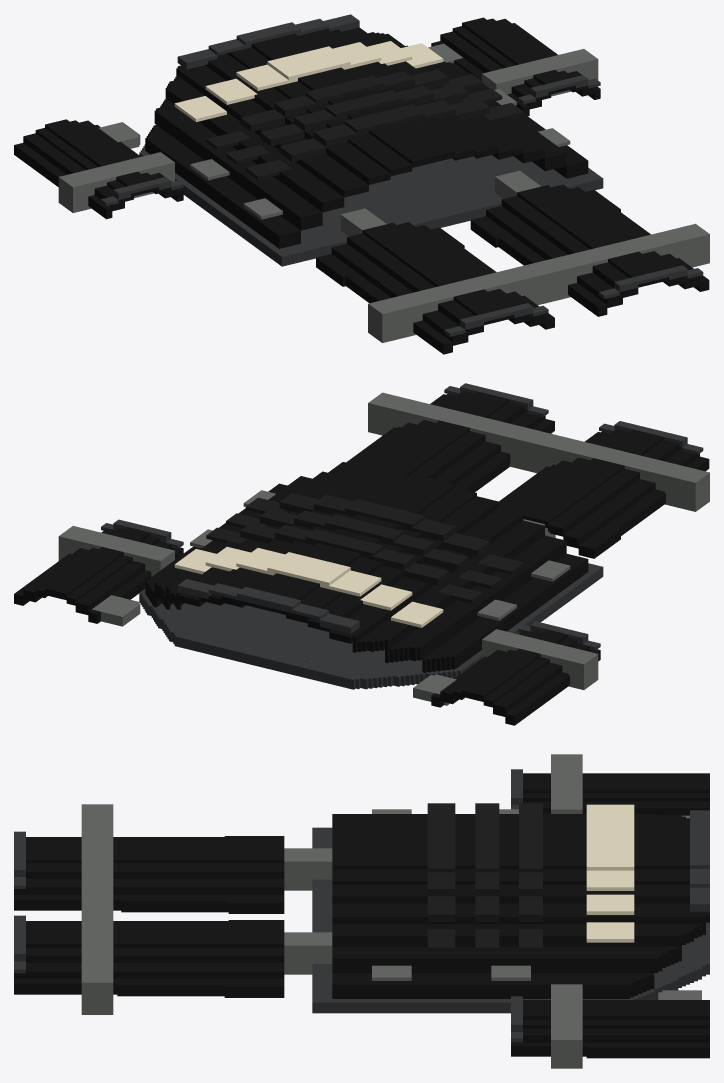
File: armor_riot_torso.glb
3 views of the same model, one above another, from view 1: azimuth 30°, elevation 25°; view 2: azimuth 150°, elevation 25°; view 3: azimuth 270°, elevation 25° (orthographic). The views are drawn at different scales.
Visible parts, largest first — view 1: armor_riot_torso:compound; view 2: armor_riot_torso:compound; view 3: armor_riot_torso:compound.
Part boxes in pixels (x1,y1,x2,y2): armor_riot_torso:compound: (14,14,709,354); armor_riot_torso:compound: (14,383,709,725); armor_riot_torso:compound: (14,754,709,1068).
Size of the model in its own units: 0.68 by 0.084 by 0.7.
